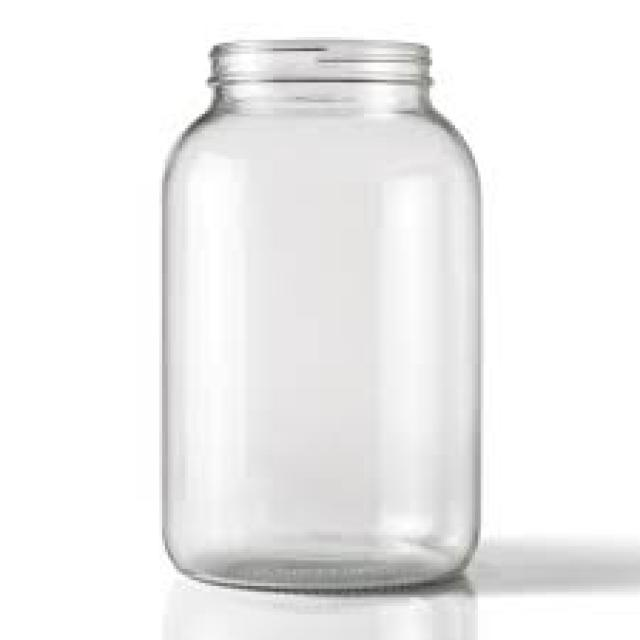glass: (159, 37, 481, 589)
